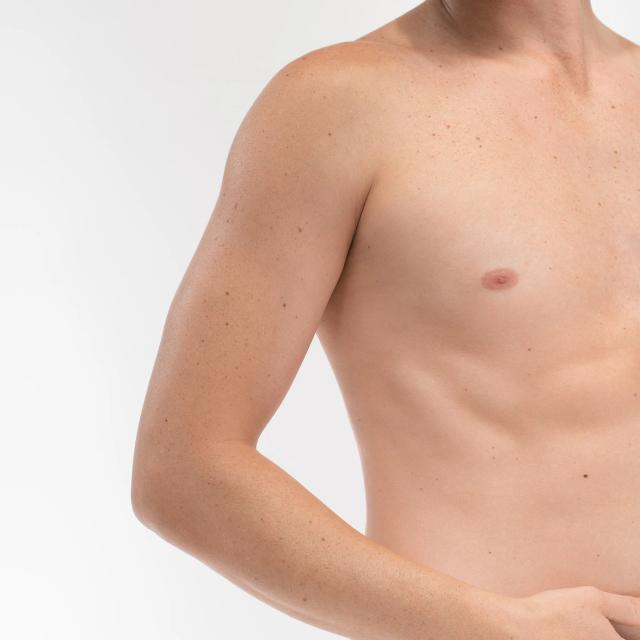piel: (127, 0, 640, 640)
